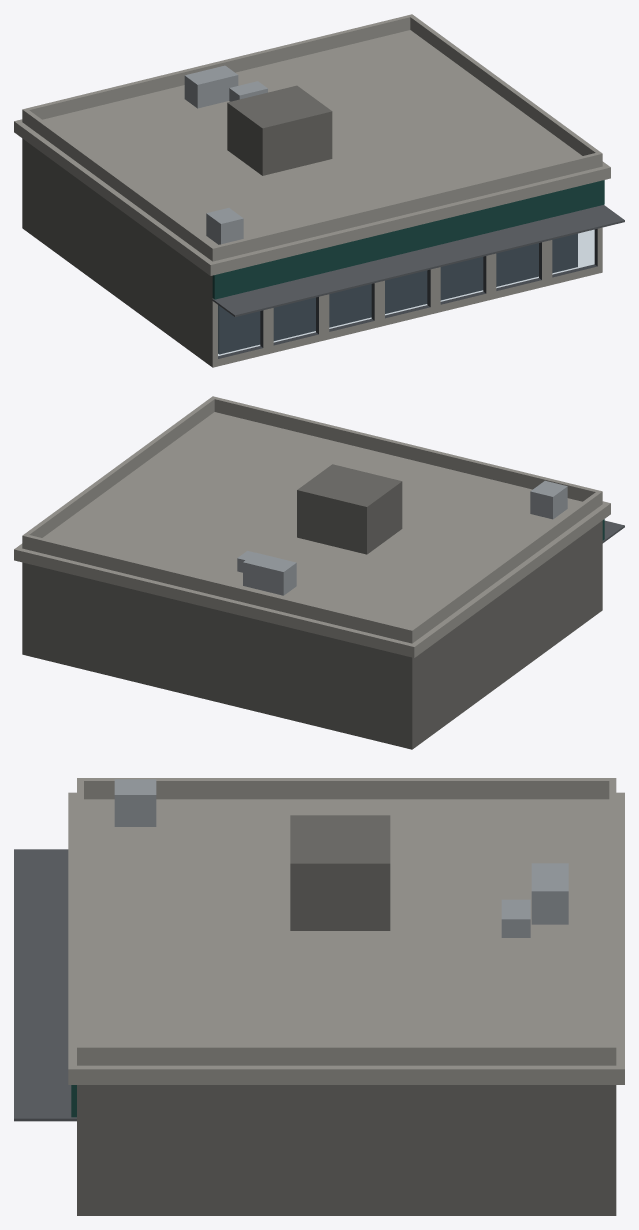
The model's file is retail-1.glb.
3 views of the same model, one above another, from view 1: azimuth 30°, elevation 25°; view 2: azimuth 150°, elevation 25°; view 3: azimuth 270°, elevation 25° (orthographic). The views are drawn at different scales.
Parts seen in each view (by area): view 1: retail-1; view 2: retail-1; view 3: retail-1.
Boxes of the visible parts, <box> form: retail-1: <box>14,14,624,367</box>; retail-1: <box>14,396,624,749</box>; retail-1: <box>14,778,624,1215</box>.
Bounding box in the file's own units: 22.91 × 8.4 × 21.37.
